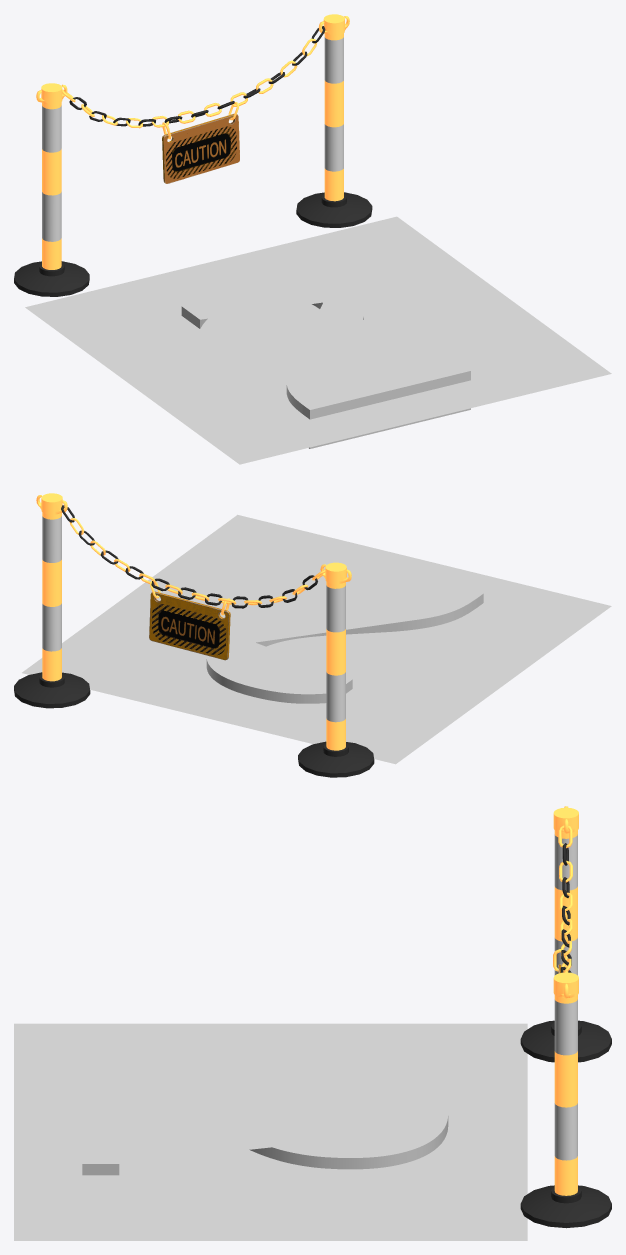
Rendered from Barrier_02.fbx.
3 renders of one model, top to bottom at view 1: azimuth 30°, elevation 25°; view 2: azimuth 150°, elevation 25°; view 3: azimuth 270°, elevation 25°, orthographic. The views are drawn at different scales.
Visible parts, largest first — view 1: Floor_tile, Text_Spline, Pole, Base, Sign, Chain; view 2: Floor_tile, Text_Spline, Pole, Base, Sign, Chain; view 3: Floor_tile, Text_Spline, Pole, Base, Chain.
Boxes of the visible parts, x1=… form: Floor_tile: x1=25, y1=216, x2=611, y2=464; Text_Spline: x1=181, y1=273, x2=470, y2=448; Pole: x1=36, y1=14, x2=349, y2=269; Base: x1=14, y1=192, x2=372, y2=296; Sign: x1=162, y1=113, x2=239, y2=183; Chain: x1=62, y1=26, x2=325, y2=139; Floor_tile: x1=22, y1=514, x2=611, y2=764; Text_Spline: x1=206, y1=554, x2=483, y2=703; Pole: x1=36, y1=493, x2=351, y2=750; Base: x1=14, y1=672, x2=374, y2=777; Sign: x1=149, y1=591, x2=230, y2=660; Chain: x1=61, y1=505, x2=325, y2=615; Floor_tile: x1=14, y1=1023, x2=527, y2=1240; Text_Spline: x1=82, y1=1070, x2=448, y2=1175; Pole: x1=553, y1=806, x2=578, y2=1195; Base: x1=520, y1=1020, x2=611, y2=1228; Chain: x1=553, y1=825, x2=572, y2=972.
Size of the model in its own units: 200 by 117 by 233.
